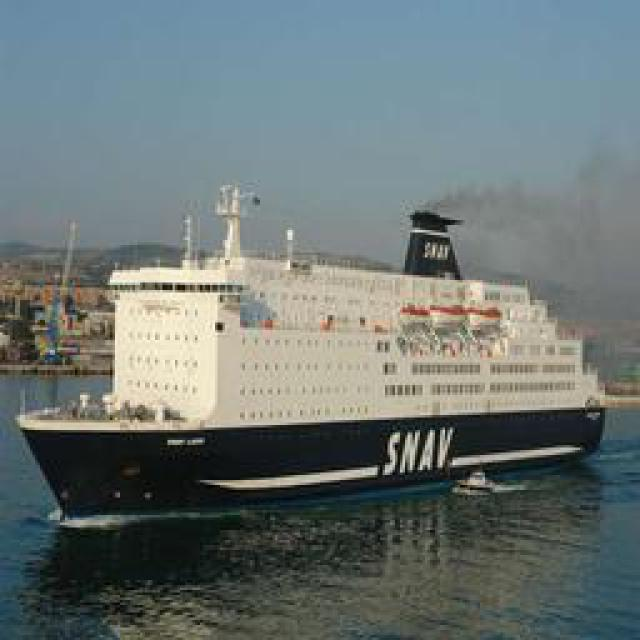Ship: (21, 180, 616, 525)
